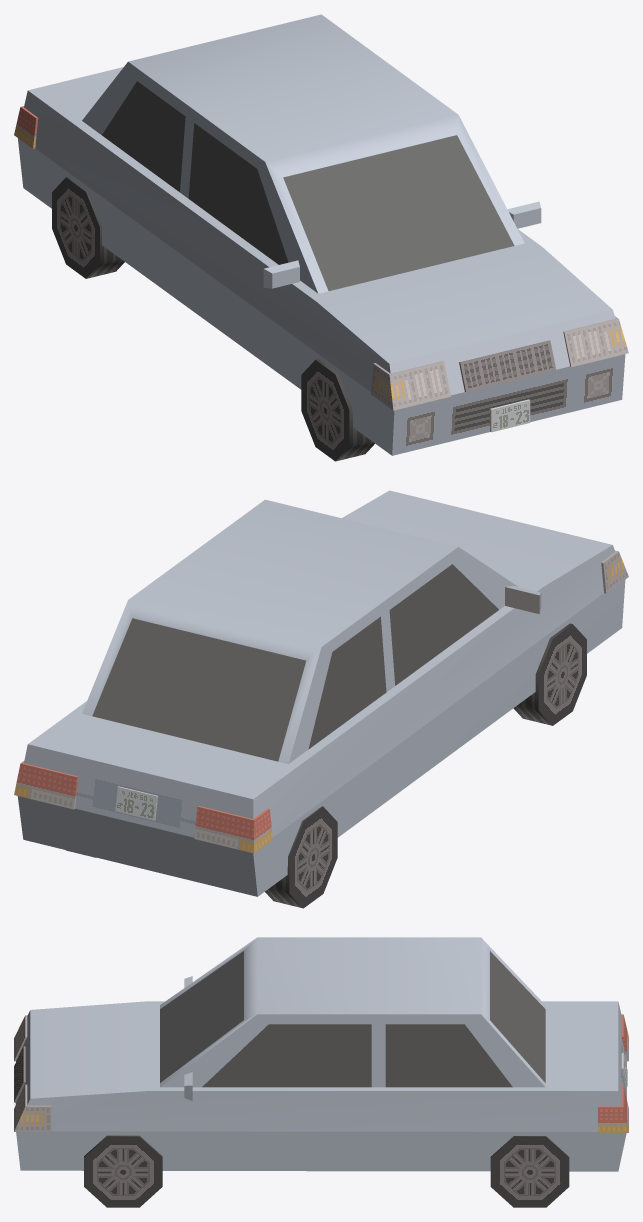
File: 0091_Japanese_Car.glb
3 views of the same model, one above another, from view 1: azimuth 30°, elevation 25°; view 2: azimuth 150°, elevation 25°; view 3: azimuth 270°, elevation 25° (orthographic). The views are drawn at different scales.
Visible parts, largest first — view 1: part_0, part_1, part_2; view 2: part_0, part_1, part_2; view 3: part_0, part_1, part_2.
Boxes of the visible parts, box(x1,y1,x2,y2) form: part_0: box(14, 14, 628, 455); part_1: box(301, 359, 374, 461); part_2: box(52, 177, 124, 278); part_0: box(14, 490, 628, 896); part_1: box(513, 623, 586, 725); part_2: box(66, 806, 337, 908); part_0: box(14, 937, 628, 1171); part_1: box(84, 1135, 162, 1207); part_2: box(490, 1136, 569, 1207).
Size of the model in its own units: 1.83 by 1.44 by 4.34.
Materials: 3 (3 with a texture image).
